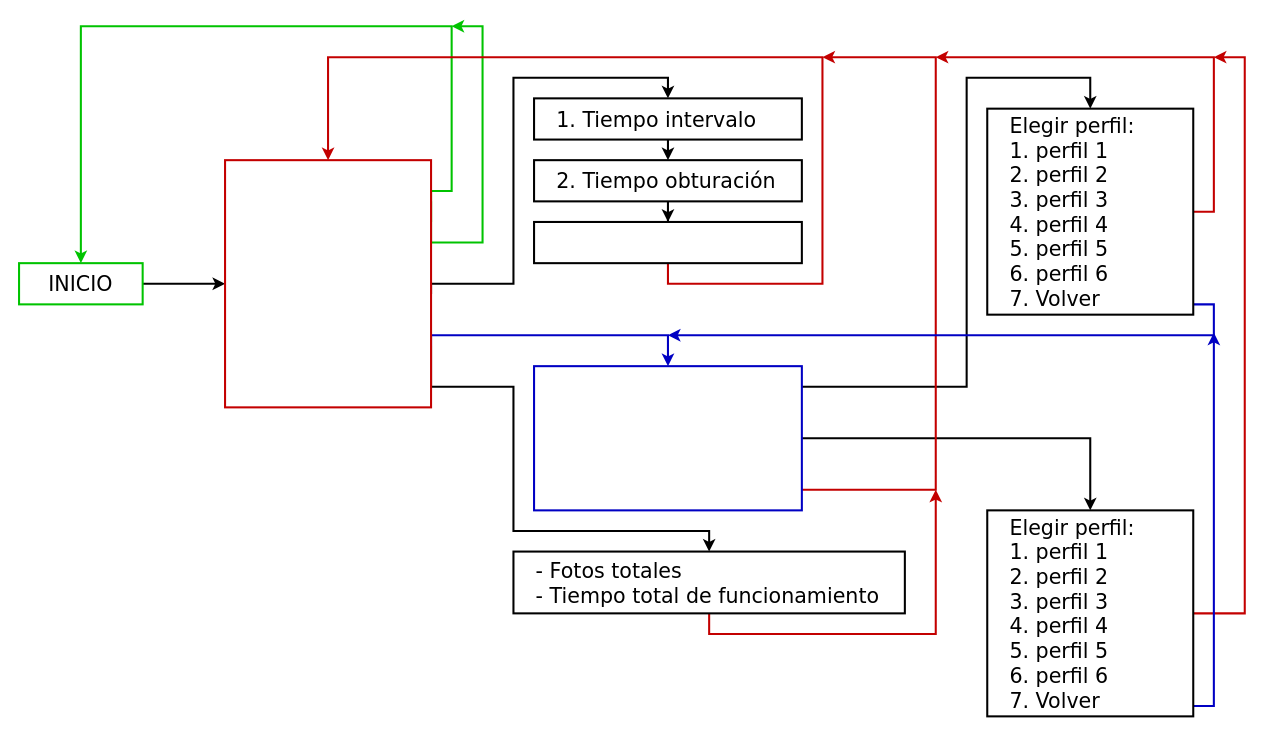
Image size: 1271x734. Some labels were removed from this diagram. The box of each missing label's shape, as (x1, y1, x2, y2) in pixels:
1. Cargar perfil 2. Guardar perfil 3 . Volver: (533, 365, 802, 511)
1. Inicio 2. Iniciar 3 . Configuracion 4. Cargar perfil 5. Estadisticas: (224, 159, 432, 408)
3. Limite de fotos: (533, 220, 802, 264)
